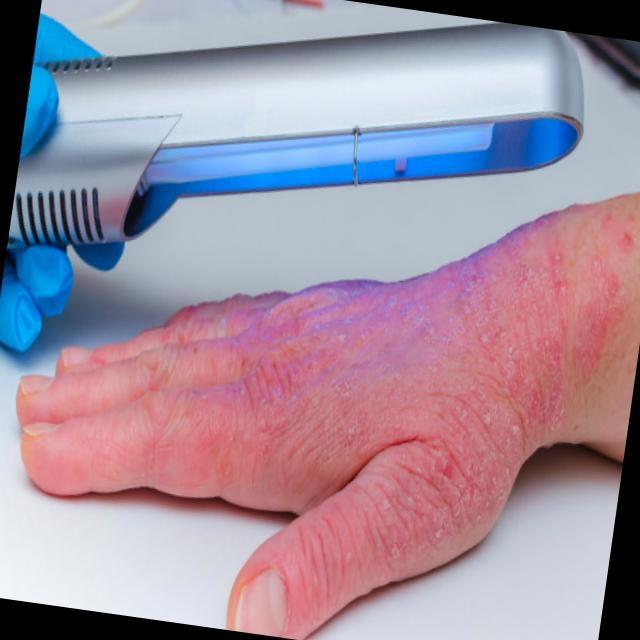Eczema: (209, 217, 632, 567)
